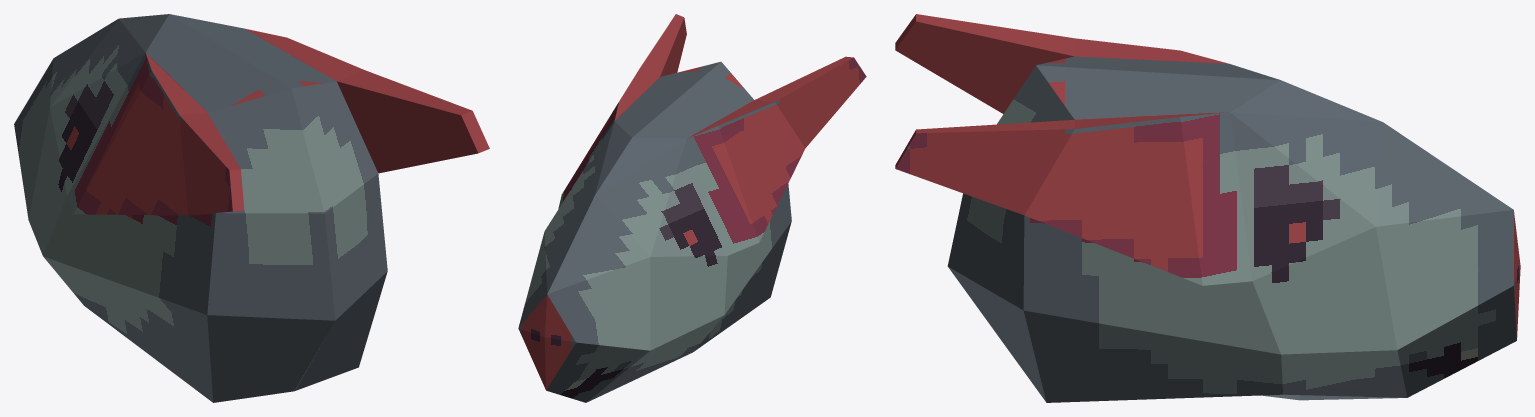
File: rat_head.glb
3 renders of one model, left to right at view 1: azimuth 30°, elevation 25°; view 2: azimuth 150°, elevation 25°; view 3: azimuth 270°, elevation 25°, orthographic. The views are drawn at different scales.
Visible parts, largest first — view 1: Cube.136; view 2: Cube.136; view 3: Cube.136.
Boxes of the visible parts, left/top/right/bottom form: Cube.136: left=14, top=14, right=489, bottom=402; Cube.136: left=518, top=14, right=866, bottom=402; Cube.136: left=895, top=14, right=1520, bottom=402.
Bounding box in the file's own units: 1.35 × 1.58 × 2.69.
1 material, 1 textured.
